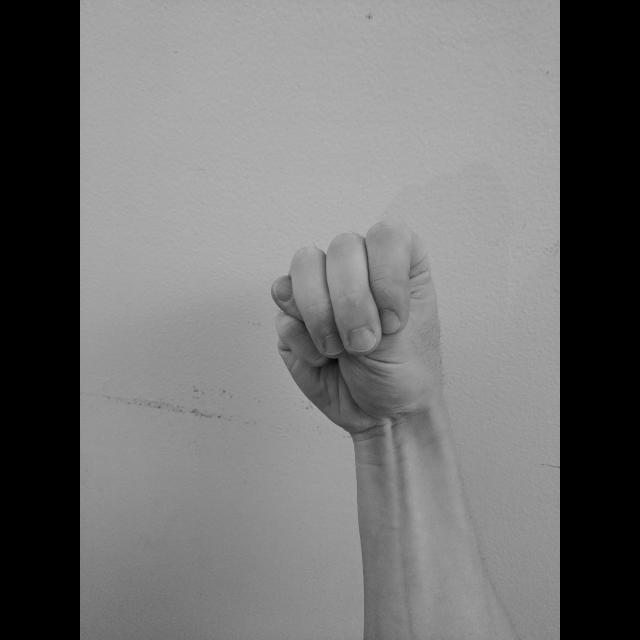M: (266, 215, 457, 447)
